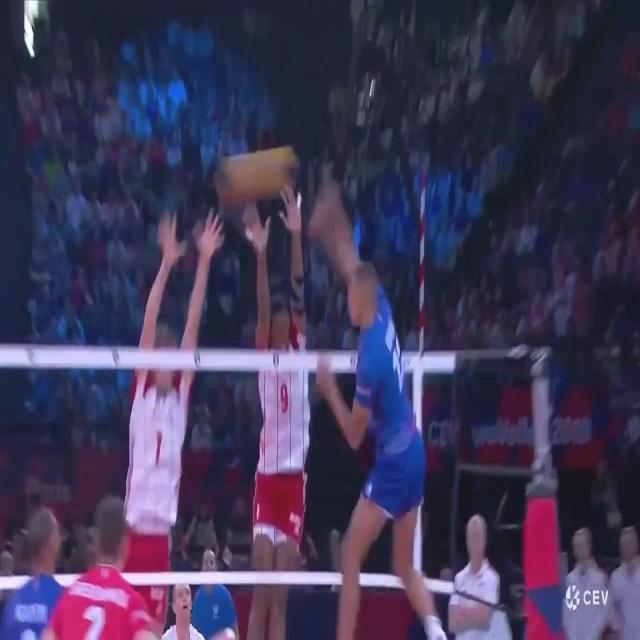volleyball: (214, 146, 300, 203)
